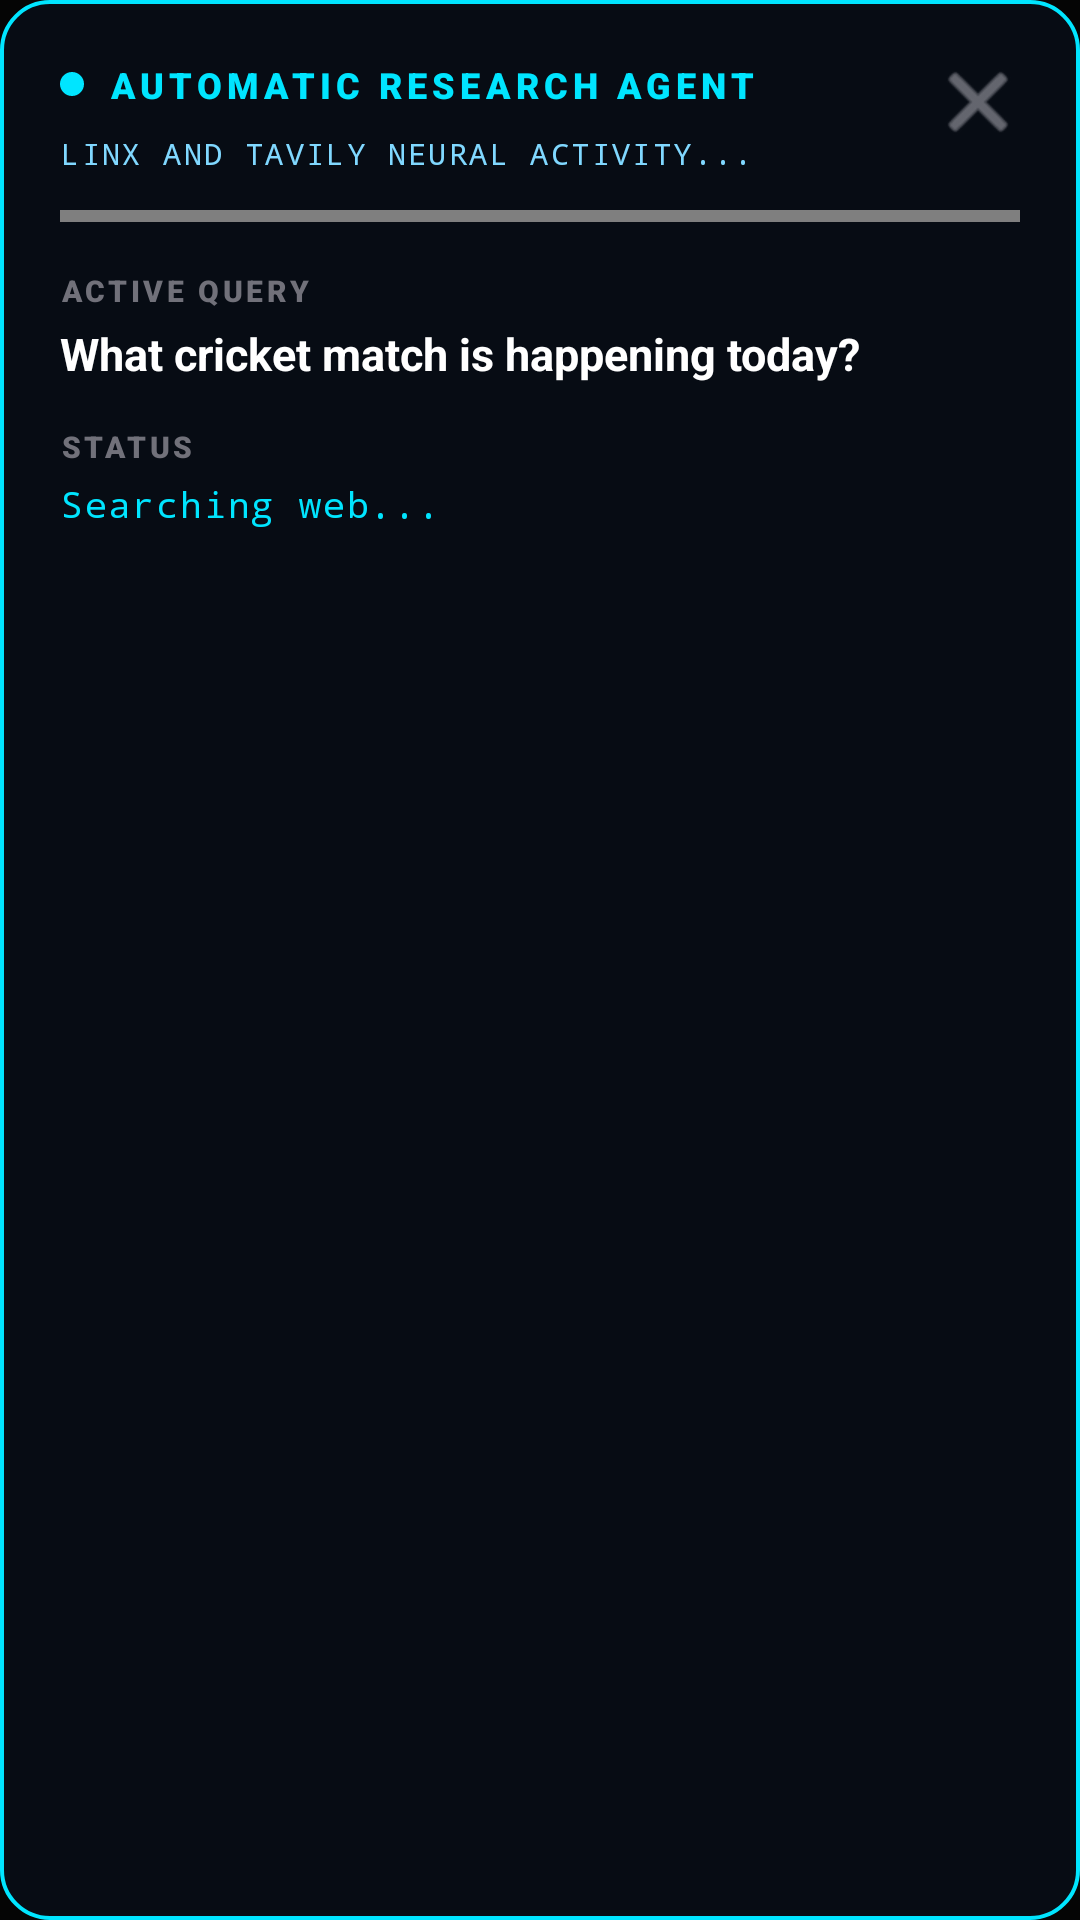

Named icons in this screenshot (1080w x 1920h) and their centers, (x=x, y=y):
Cancel research: (x=978, y=102)
